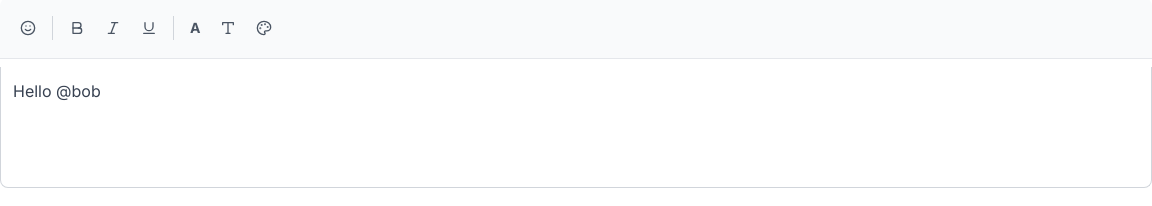
Scenario: RichTextEditor - Multiple Mentions › should detect mentions correctly when there are existing mention spans
Clear the field labelled "Hello @bob" at (57, 91), box [13,81,101,101]
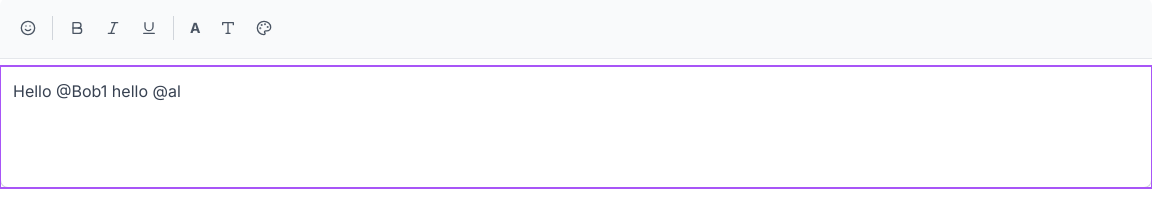
expect the text with class "mention" reads "@Bob1": met, box [56,81,107,101]
Clear the field labelled "Hello @Bob1 hello @al" at (576, 127), box [1,67,1151,187]
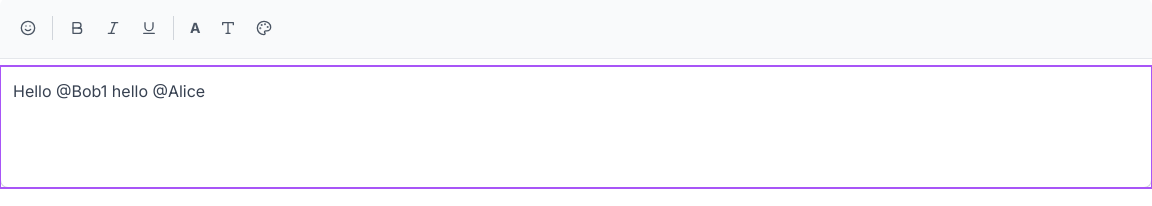
expect the text with class "mention" reads "@Bob1": met, box [56,81,107,101]
expect the number of elements with class "mention" is 2: met, box [56,81,107,101]; [152,81,205,101]
expect the text with class "mention" reads "@Alice": met, box [152,81,205,101]
